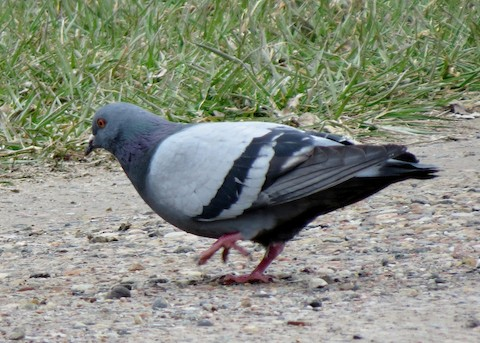pigeon: (82, 95, 453, 287)
